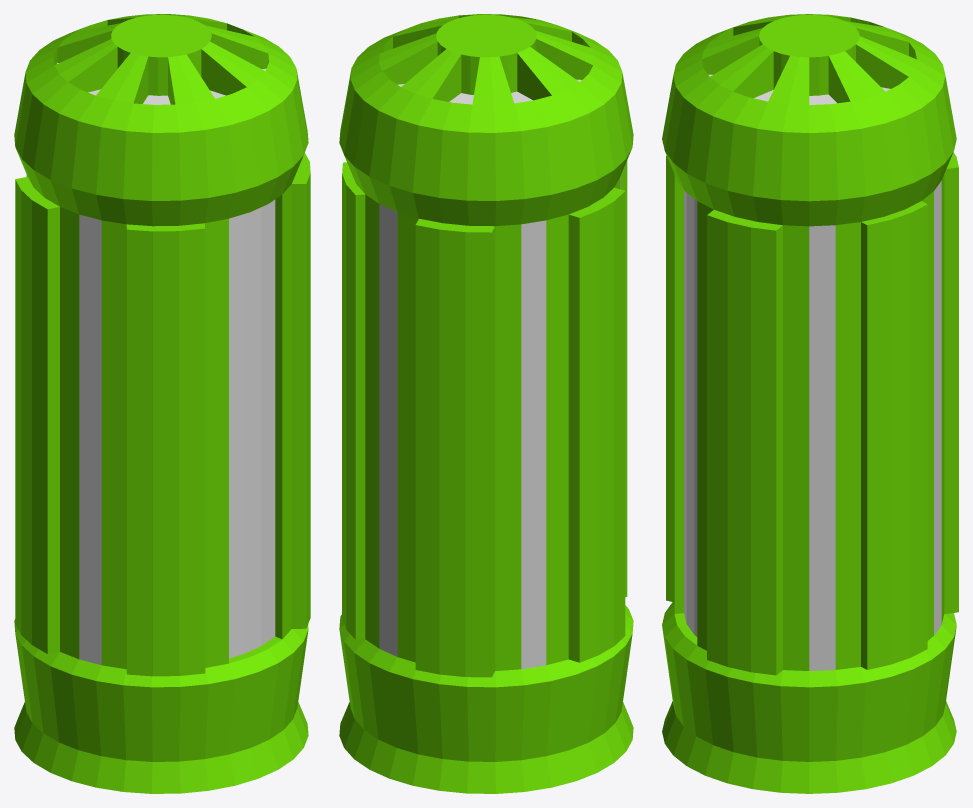
The model's file is ReactorRod.fbx.
The picture shows the model from 3 angles, left to right: view 1: azimuth 30°, elevation 25°; view 2: azimuth 150°, elevation 25°; view 3: azimuth 270°, elevation 25°; orthographic projection.
Parts seen in each view (by area): view 1: Cylinder; view 2: Cylinder; view 3: Cylinder.
Boxes of the visible parts, x1,y1,x2,y2 form: Cylinder: (14, 14, 310, 793); Cylinder: (339, 14, 633, 793); Cylinder: (662, 14, 958, 793).
Bounding box in the file's own units: 101 × 263 × 102.
